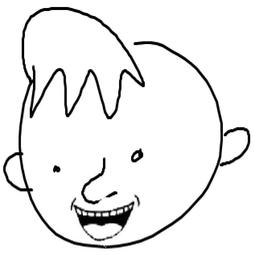ear: (212, 118, 250, 171), (2, 146, 27, 195)
nose: (76, 150, 119, 208)
open_mouth: (71, 201, 144, 246)
small_eye: (121, 146, 149, 165), (46, 162, 66, 177)
